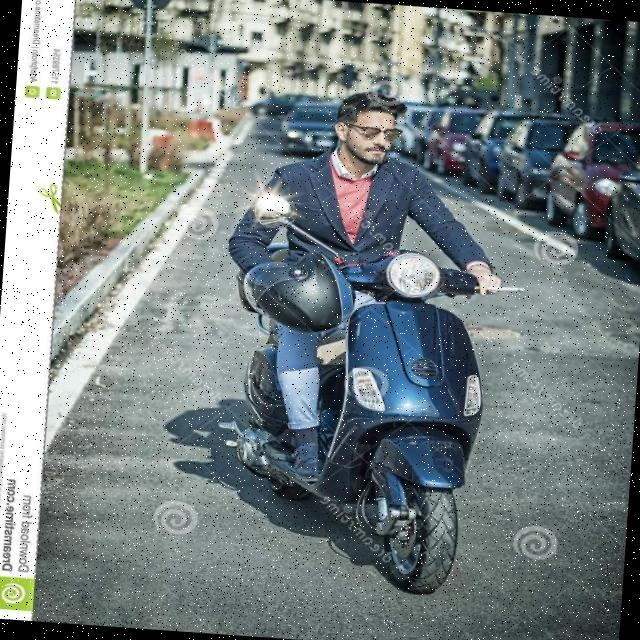No helmet: (322, 89, 408, 182)
